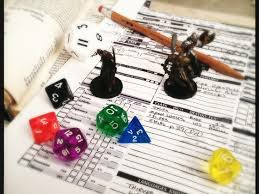pen: (99, 7, 244, 78)
